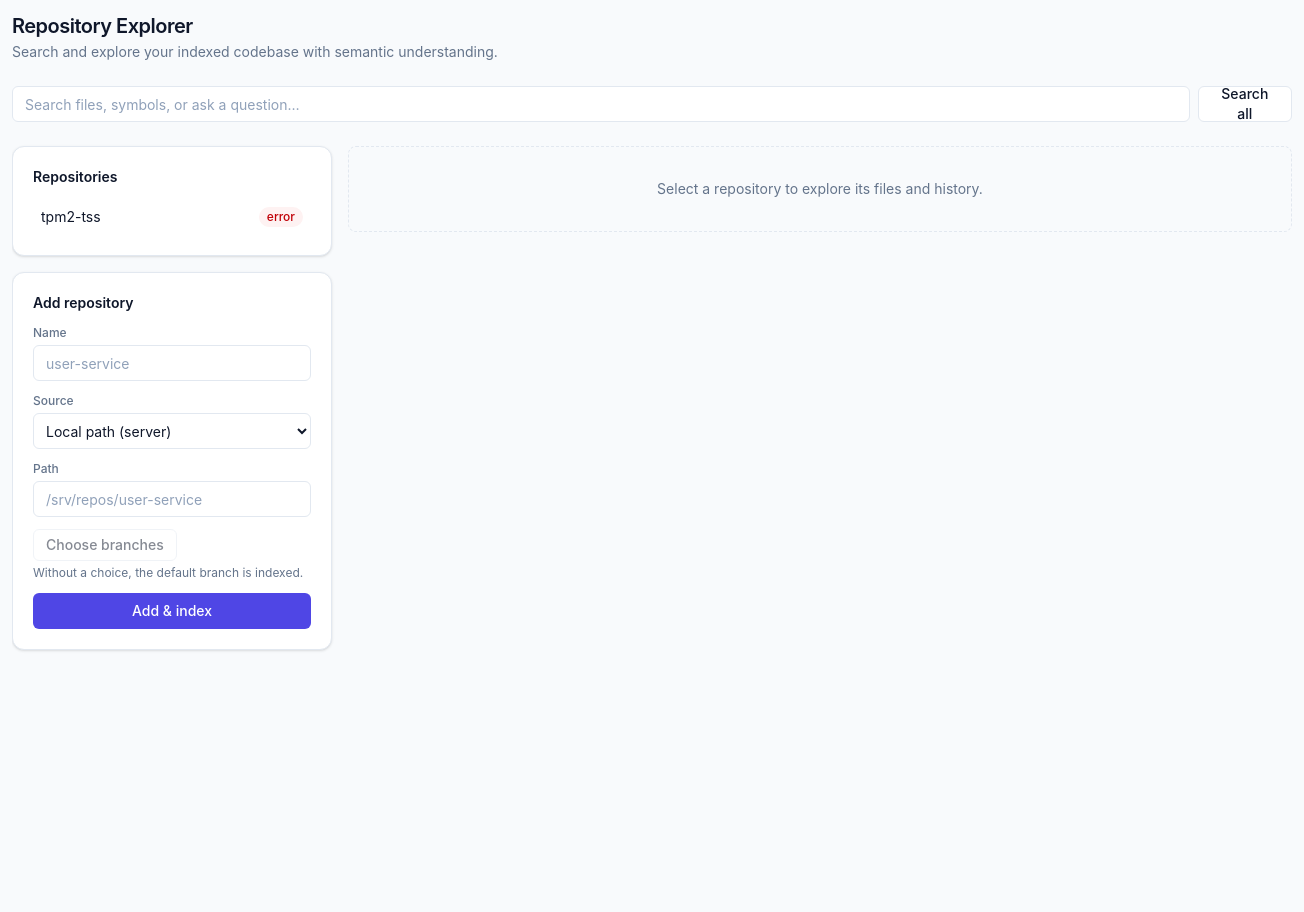
a failed index › says why it failed and that a timeout is tried again, instead of blaming the path
Click the button "tpm2-tss error". click: (71,216)
box: [33,199,311,235]
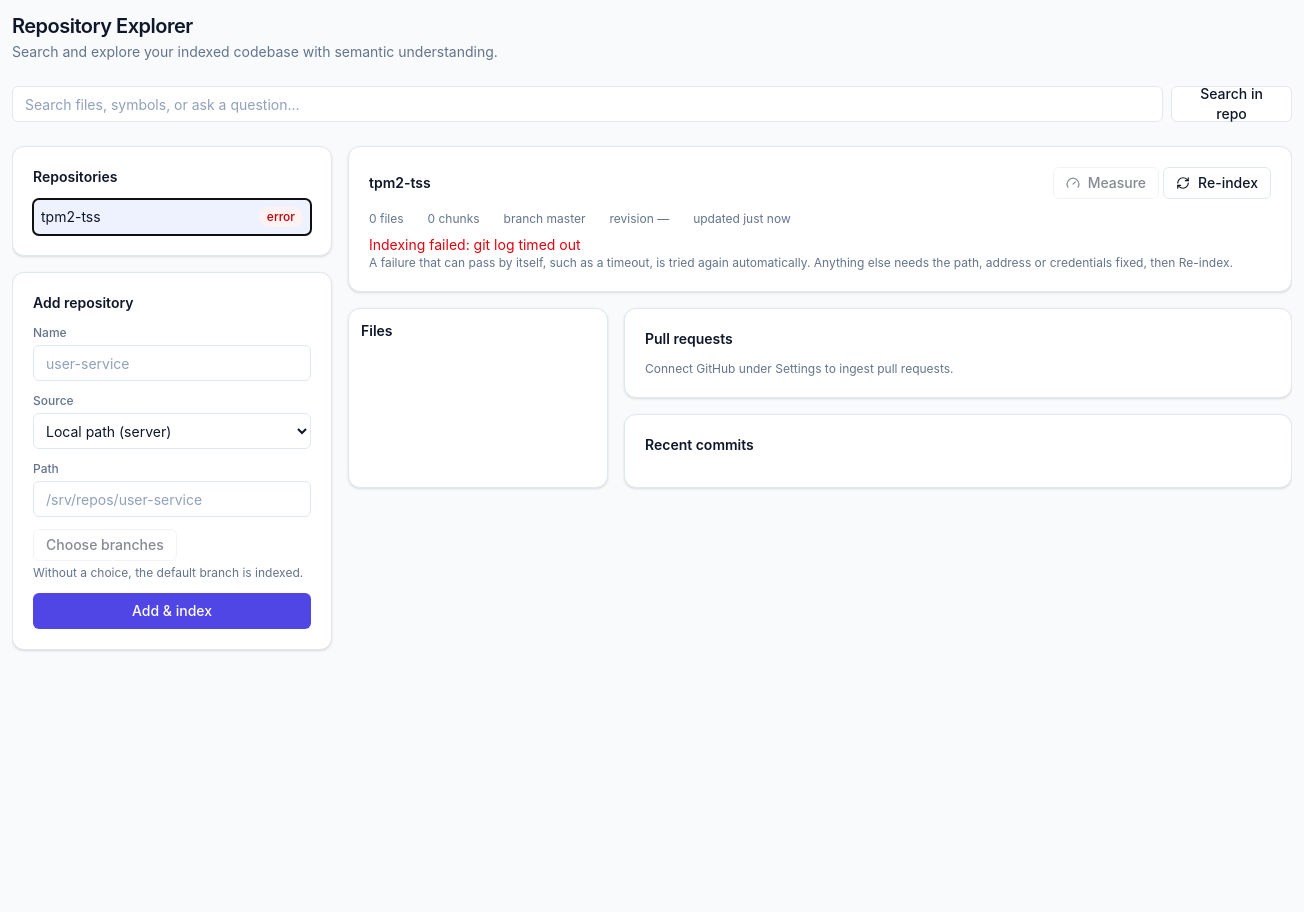
Expected: the text "Indexing failed: git log timed out" is shown, [369,236,581,253]
Expected: the text "tried again automatically" is shown, [369,255,1233,270]
